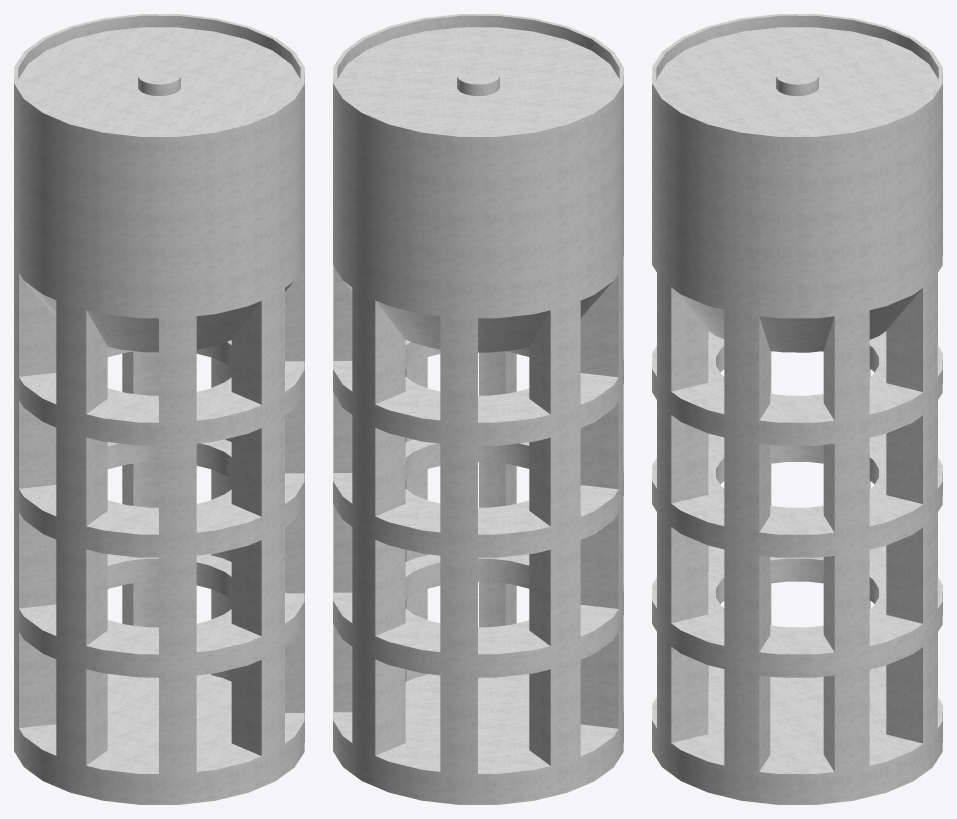
The picture shows the model from 3 angles, left to right: view 1: azimuth 30°, elevation 25°; view 2: azimuth 150°, elevation 25°; view 3: azimuth 270°, elevation 25°; orthographic projection.
Visible parts, largest first — view 1: 水塔; view 2: 水塔; view 3: 水塔.
Part boxes in pixels (left/top/right/bottom): 水塔: left=14, top=14, right=304, bottom=804; 水塔: left=333, top=14, right=623, bottom=804; 水塔: left=652, top=14, right=942, bottom=804.
Size of the model in its own units: 6.82 by 17.3 by 6.82.
Materials: 1 (1 with a texture image).
